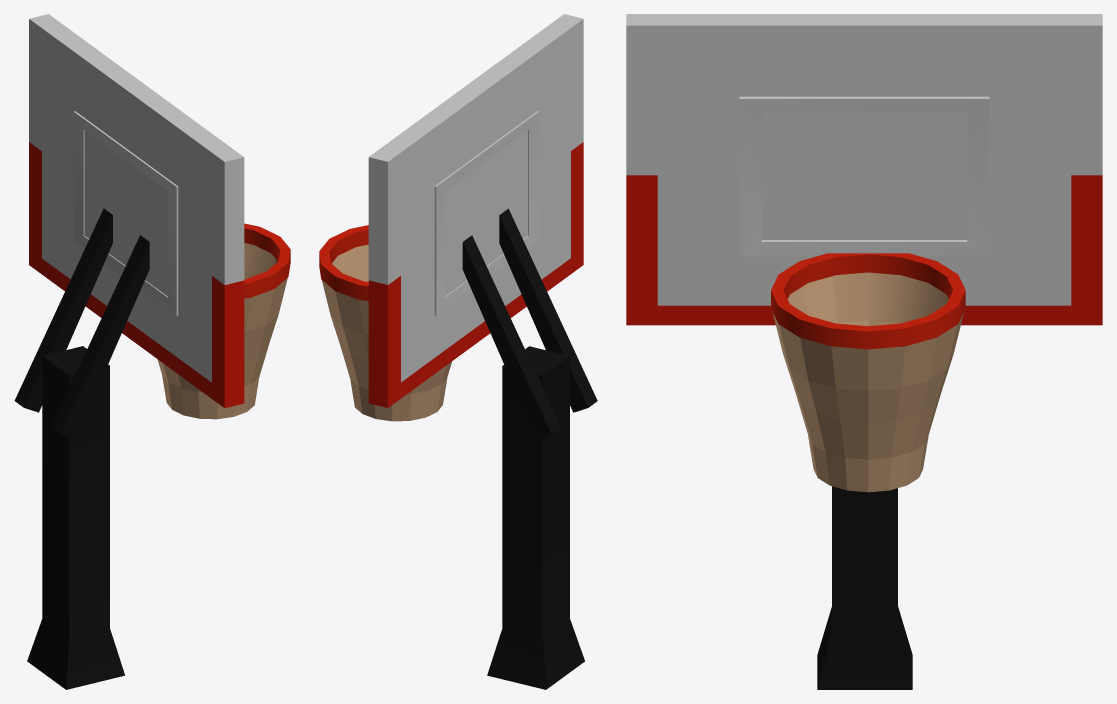
File: Spo_Goalpost_l 2.fbx
The picture shows the model from 3 angles, left to right: view 1: azimuth 30°, elevation 25°; view 2: azimuth 150°, elevation 25°; view 3: azimuth 270°, elevation 25°; orthographic projection. The views are drawn at different scales.
Visible parts, largest first — view 1: Goalpost_l.001; view 2: Goalpost_l.001; view 3: Goalpost_l.001.
Part boxes in pixels (left/top/right/bottom): Goalpost_l.001: left=14, top=14, right=290, bottom=689; Goalpost_l.001: left=319, top=14, right=597, bottom=689; Goalpost_l.001: left=626, top=14, right=1102, bottom=689.
Bounding box in the file's own units: 257 × 356 × 568.
